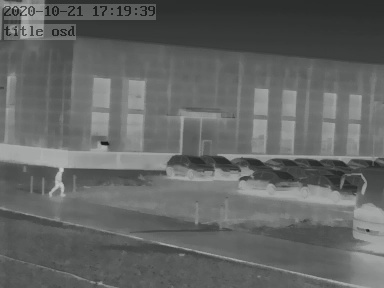person: (52, 163, 64, 197)
vehicle: (238, 169, 304, 191), (298, 174, 348, 201), (165, 152, 213, 179), (204, 153, 243, 177), (232, 154, 270, 171), (343, 156, 379, 172), (262, 155, 297, 170), (319, 156, 352, 171), (296, 155, 325, 169)
